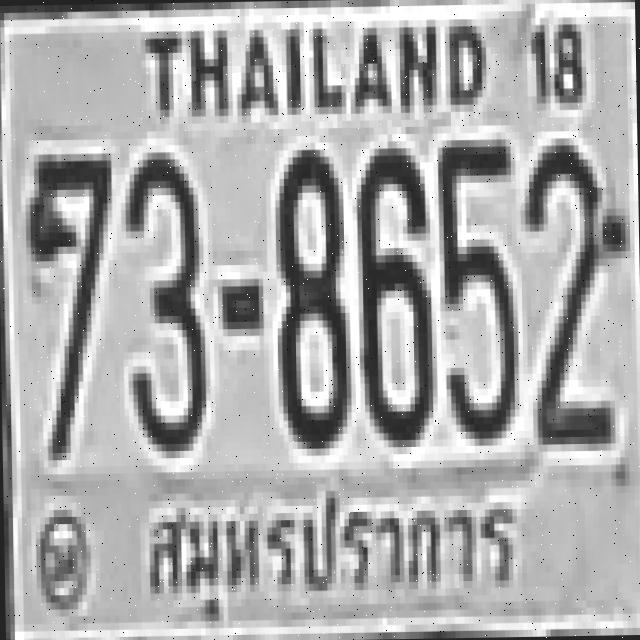2: (524, 133, 628, 441), (524, 133, 620, 441), (521, 134, 622, 426)
3: (120, 141, 202, 448)
5: (433, 132, 515, 439)
6: (351, 140, 429, 440)
7: (27, 146, 114, 453)
8: (274, 142, 347, 442)
SamutPrakan: (136, 470, 522, 632)
